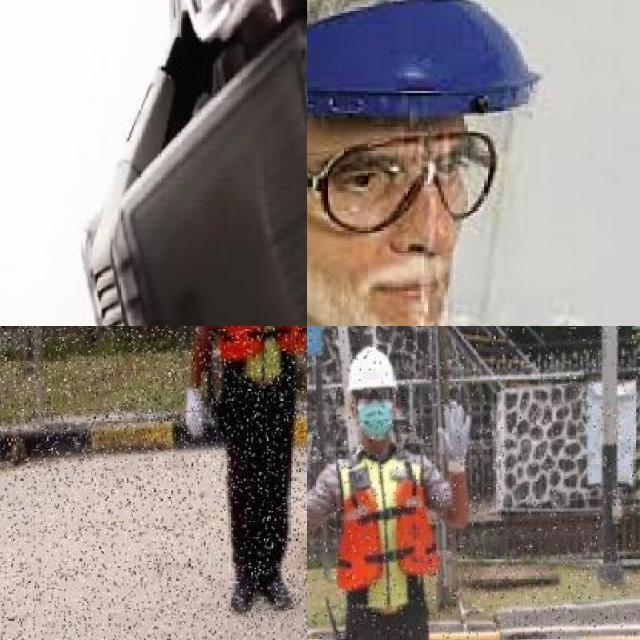apron: (437, 397, 473, 477), (182, 384, 207, 442)
